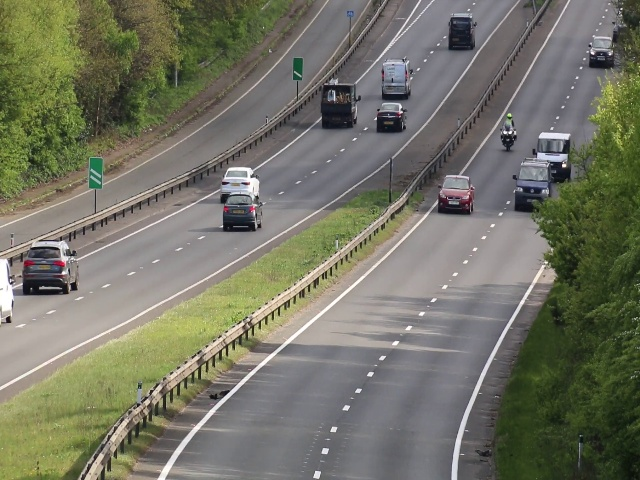car: (23, 240, 80, 296), (320, 81, 358, 127), (515, 162, 551, 210), (222, 193, 263, 230), (438, 175, 473, 214), (446, 13, 477, 52), (380, 61, 412, 98), (224, 166, 258, 192), (376, 102, 405, 132), (535, 137, 571, 160), (590, 36, 613, 68)
